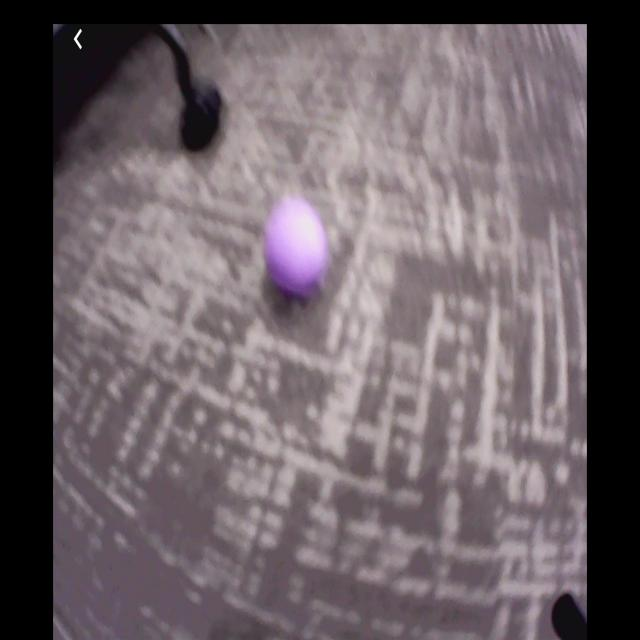ball: (266, 199, 326, 293)
